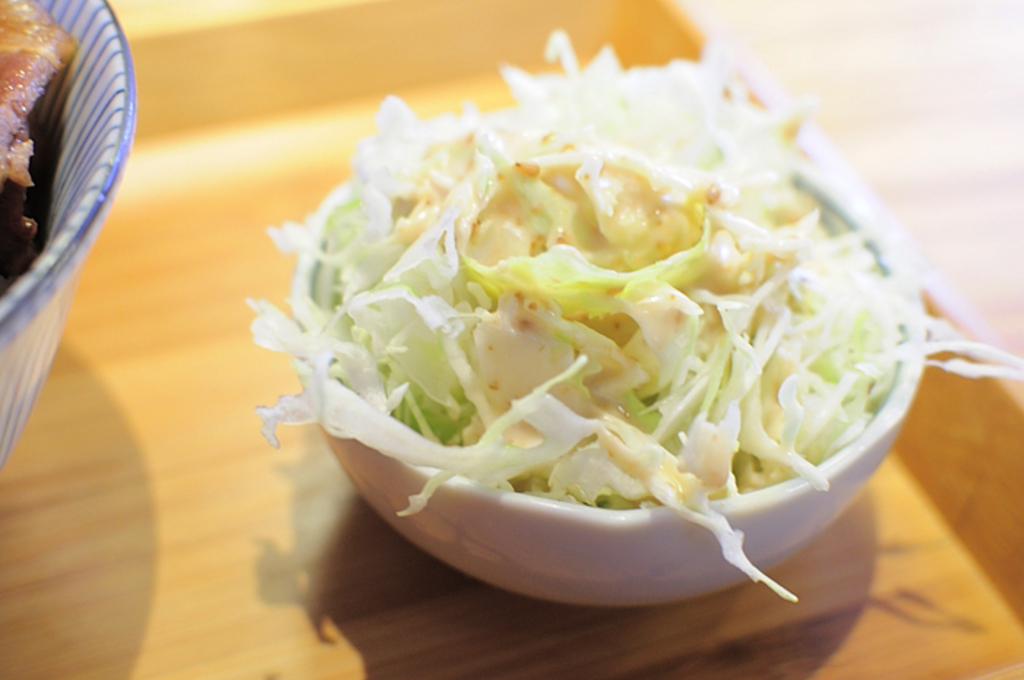Cabbage: (243, 26, 1021, 603)
